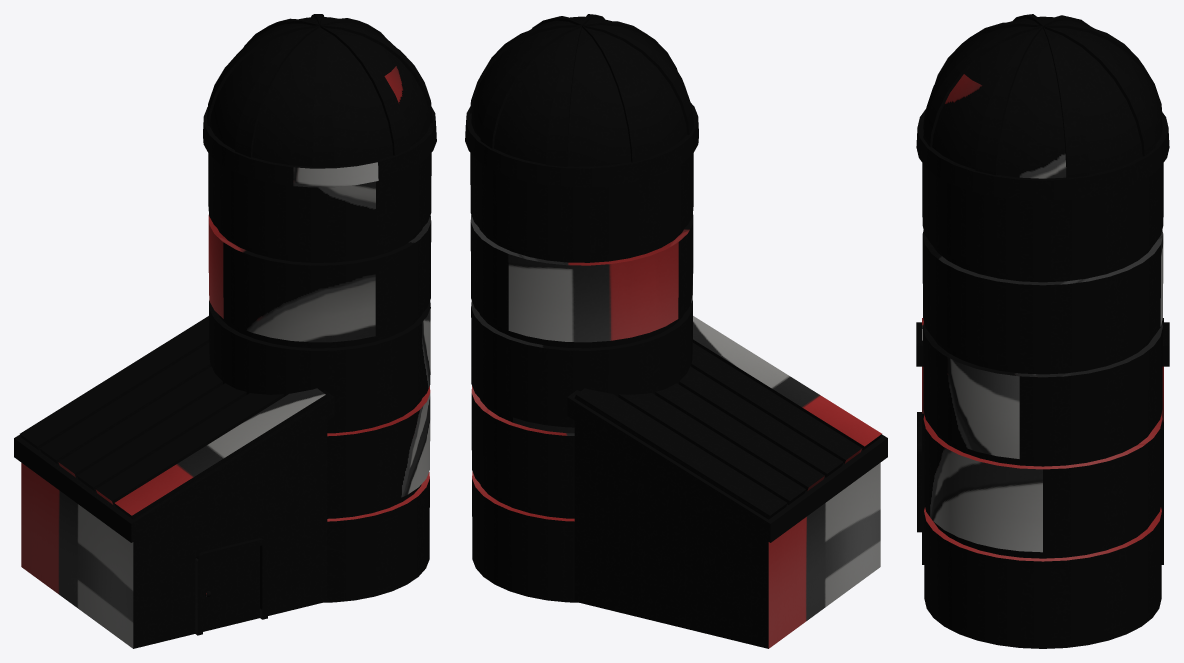
Rendered from GrainSilo.fbx.
The picture shows the model from 3 angles, left to right: view 1: azimuth 30°, elevation 25°; view 2: azimuth 150°, elevation 25°; view 3: azimuth 270°, elevation 25°; orthographic projection. The views are drawn at different scales.
Parts seen in each view (by area): view 1: Sphere.001, Cube; view 2: Sphere.001, Cube; view 3: Sphere.001, Cube.
Boxes of the visible parts, x1=… form: Sphere.001: x1=203, y1=14, x2=436, y2=602; Cube: x1=14, y1=316, x2=334, y2=648; Sphere.001: x1=465, y1=14, x2=698, y2=602; Cube: x1=567, y1=316, x2=887, y2=648; Sphere.001: x1=916, y1=14, x2=1169, y2=648; Cube: x1=916, y1=318, x2=1169, y2=564.
Bounding box in the file's own units: 359 × 523 × 209.
